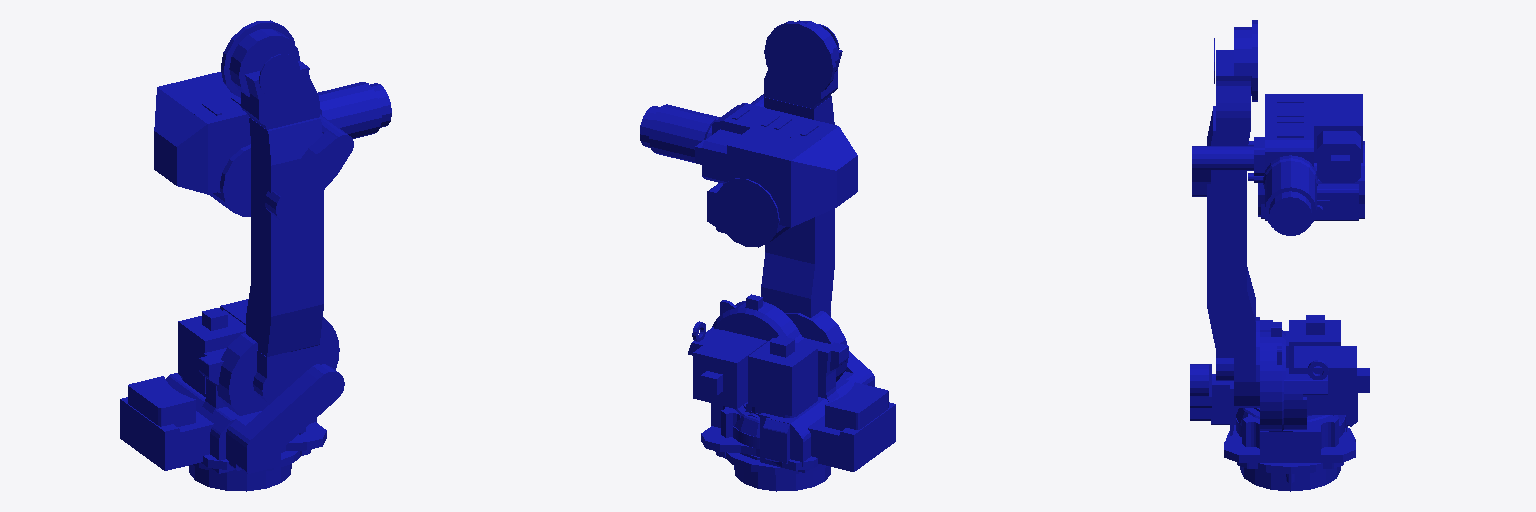
The robot description file, URDF, robot "motoman_hc10":
<?xml version="1.0" ?>
<!-- =================================================================================== -->
<!-- |    This document was autogenerated by xacro from hc10.xacro                     | -->
<!-- |    EDITING THIS FILE BY HAND IS NOT RECOMMENDED                                 | -->
<!-- =================================================================================== -->
<robot name="motoman_hc10">
  <!-- link list -->
  <link name="world"/>
  <link name="base_link">
    <visual>
      <geometry>
        <mesh filename="package://motoman_hc10_support/meshes/hc10/visual/base_link.dae"/>
      </geometry>
      <material name="">
        <color rgba="0.12941176470588237 0.14901960784313725 0.7490196078431373 1.0"/>
      </material>
    </visual>
    <collision>
      <geometry>
        <mesh filename="package://motoman_hc10_support/meshes/hc10/collision/base_link.stl"/>
      </geometry>
    </collision>
    <inertial>
      <origin rpy="0 0 0" xyz="0 0 0"/>
      <mass value="0.1"/>
      <inertia ixx="0.3" ixy="0.03" ixz="0.03" iyy="0.0" iyz="0.0" izz="0.0"/>
    </inertial>
  </link>
  <link name="link_1_s">
    <visual>
      <geometry>
        <mesh filename="package://motoman_hc10_support/meshes/hc10/visual/link_1_s.dae"/>
      </geometry>
      <material name="">
        <color rgba="0.12941176470588237 0.14901960784313725 0.7490196078431373 1.0"/>
      </material>
    </visual>
    <collision>
      <geometry>
        <mesh filename="package://motoman_hc10_support/meshes/hc10/collision/link_1_s.stl"/>
      </geometry>
    </collision>
    <inertial>
      <origin rpy="0 0 0" xyz="0 0 0"/>
      <mass value="0.1"/>
      <inertia ixx="0.3" ixy="0.03" ixz="0.03" iyy="0.0" iyz="0.0" izz="0.0"/>
    </inertial>
  </link>
  <link name="link_2_l">
    <visual>
      <geometry>
        <mesh filename="package://motoman_hc10_support/meshes/hc10/visual/link_2_l.dae"/>
      </geometry>
      <material name="">
        <color rgba="0.12941176470588237 0.14901960784313725 0.7490196078431373 1.0"/>
      </material>
    </visual>
    <collision>
      <geometry>
        <mesh filename="package://motoman_hc10_support/meshes/hc10/collision/link_2_l.stl"/>
      </geometry>
    </collision>
    <inertial>
      <origin rpy="0 0 0" xyz="0 0 0"/>
      <mass value="0.1"/>
      <inertia ixx="0.3" ixy="0.03" ixz="0.03" iyy="0.0" iyz="0.0" izz="0.0"/>
    </inertial>
  </link>
  <link name="link_3_u">
    <visual>
      <geometry>
        <mesh filename="package://motoman_hc10_support/meshes/hc10/visual/link_3_u.dae"/>
      </geometry>
      <material name="">
        <color rgba="0.12941176470588237 0.14901960784313725 0.7490196078431373 1.0"/>
      </material>
    </visual>
    <collision>
      <geometry>
        <mesh filename="package://motoman_hc10_support/meshes/hc10/collision/link_3_u.stl"/>
      </geometry>
    </collision>
    <inertial>
      <origin rpy="0 0 0" xyz="0 0 0"/>
      <mass value="0.1"/>
      <inertia ixx="0.3" ixy="0.03" ixz="0.03" iyy="0.0" iyz="0.0" izz="0.0"/>
    </inertial>
  </link>
  <link name="link_4_r">
    <visual>
      <geometry>
        <mesh filename="package://motoman_hc10_support/meshes/hc10/visual/link_4_r.dae"/>
      </geometry>
      <material name="">
        <color rgba="0.12941176470588237 0.14901960784313725 0.7490196078431373 1.0"/>
      </material>
    </visual>
    <collision>
      <geometry>
        <mesh filename="package://motoman_hc10_support/meshes/hc10/collision/link_4_r.stl"/>
      </geometry>
    </collision>
    <inertial>
      <origin rpy="0 0 0" xyz="0 0 0"/>
      <mass value="0.1"/>
      <inertia ixx="0.3" ixy="0.03" ixz="0.03" iyy="0.0" iyz="0.0" izz="0.0"/>
    </inertial>
  </link>
  <link name="link_5_b">
    <visual>
      <geometry>
        <mesh filename="package://motoman_hc10_support/meshes/hc10/visual/link_5_b.dae"/>
      </geometry>
      <material name="">
        <color rgba="0.12941176470588237 0.14901960784313725 0.7490196078431373 1.0"/>
      </material>
    </visual>
    <collision>
      <geometry>
        <mesh filename="package://motoman_hc10_support/meshes/hc10/collision/link_5_b.stl"/>
      </geometry>
    </collision>
    <inertial>
      <origin rpy="0 0 0" xyz="0 0 0"/>
      <mass value="0.1"/>
      <inertia ixx="0.3" ixy="0.03" ixz="0.03" iyy="0.0" iyz="0.0" izz="0.0"/>
    </inertial>
  </link>
  <link name="link_6_t">
    <visual>
      <geometry>
        <mesh filename="package://motoman_hc10_support/meshes/hc10/visual/link_6_t.dae"/>
      </geometry>
      <material name="">
        <color rgba="0.12941176470588237 0.14901960784313725 0.7490196078431373 1.0"/>
      </material>
    </visual>
    <collision>
      <geometry>
        <mesh filename="package://motoman_hc10_support/meshes/hc10/collision/link_6_t.stl"/>
      </geometry>
    </collision>
    <inertial>
      <origin rpy="0 0 0" xyz="0 0 0"/>
      <mass value="0.1"/>
      <inertia ixx="0.3" ixy="0.03" ixz="0.03" iyy="0.0" iyz="0.0" izz="0.0"/>
    </inertial>
  </link>
  <link name="tool0"/>
  <link name="camera_link"/>
  <link name="camera_depth_optical_frame"/>
  <!-- end of link list -->
  <!-- joint list -->
  <joint name="world_prefix" type="fixed">
    <parent link="world"/>
    <child link="base_link"/>
  </joint>
  <joint name="joint_1_s" type="revolute">
    <parent link="base_link"/>
    <child link="link_1_s"/>
    <origin rpy="0 0 0" xyz="0 0 0.275"/>
    <axis xyz="0 0 1"/>
    <limit effort="368.48" lower="-3.141592653589793" upper="3.141592653589793" velocity="2.2689280275926285"/>
    <dynamics damping="1"/>
  </joint>
  <joint name="joint_2_l" type="revolute">
    <parent link="link_1_s"/>
    <child link="link_2_l"/>
    <origin rpy="0 0 0" xyz="0 0 0"/>
    <axis xyz="0 1 0"/>
    <limit effort="368.48" lower="-3.141592653589793" upper="3.141592653589793" velocity="2.2689280275926285"/>
    <dynamics damping="1"/>
  </joint>
  <joint name="joint_3_u" type="revolute">
    <parent link="link_2_l"/>
    <child link="link_3_u"/>
    <origin rpy="0 0 0" xyz="0 0 0.700"/>
    <axis xyz="0 -1 0"/>
    <limit effort="141.12" lower="-0.08726646259971647" upper="6.19591884457987" velocity="3.141592653589793"/>
    <dynamics damping="1"/>
  </joint>
  <joint name="joint_4_r" type="revolute">
    <parent link="link_3_u"/>
    <child link="link_4_r"/>
    <origin rpy="0 0 0" xyz="0 0 -0.500"/>
    <axis xyz="0 0 1"/>
    <limit effort="39.20" lower="-3.141592653589793" upper="3.141592653589793" velocity="3.141592653589793"/>
    <dynamics damping="1"/>
  </joint>
  <joint name="joint_5_b" type="revolute">
    <parent link="link_4_r"/>
    <child link="link_5_b"/>
    <origin rpy="0 0 0" xyz="0 0.162 0"/>
    <axis xyz="0 -1 0"/>
    <limit effort="31.36" lower="-3.141592653589793" upper="3.141592653589793" velocity="4.363323129985824"/>
    <dynamics damping="1"/>
  </joint>
  <joint name="joint_6_t" type="revolute">
    <parent link="link_5_b"/>
    <child link="link_6_t"/>
    <origin rpy="0 0 0" xyz="0 0 0"/>
    <axis xyz="0 0 1"/>
    <limit effort="31.36" lower="-3.141592653589793" upper="3.141592653589793" velocity="4.363323129985824"/>
    <dynamics damping="1"/>
  </joint>
  <joint name="joint_6_t-tool0" type="fixed">
    <origin rpy="3.141592653589793 0 0" xyz="0 0 -0.130"/>
    <parent link="link_6_t"/>
    <child link="tool0"/>
  </joint>
  <joint name="camera_joint" type="fixed">
    <parent link="tool0"/>
    <child link="camera_link"/>
    <origin rpy="0 0 0" xyz="0 0 0.1"/>
  </joint>
  <joint name="camera_optical_joint" type="fixed">
    <parent link="camera_link"/>
    <child link="camera_depth_optical_frame"/>
    <origin rpy="0 0 0" xyz="0 0 0.1"/>
  </joint>
  <!-- end of joint list -->
  <gazebo reference="camera_link">
    <sensor name="kinect_camera" type="depth">
      <update_rate>20</update_rate>
      <camera>
        <horizontal_fov>1.047198</horizontal_fov>
        <image>
          <width>640</width>
          <height>480</height>
          <format>B8G8R8</format>
        </image>
        <clip>
          <near>0.05</near>
          <far>3</far>
        </clip>
      </camera>
      <plugin filename="libgazebo_ros_openni_kinect.so" name="kinect_controller">
        <baseline>0.1</baseline>
        <alwaysOn>true</alwaysOn>
        <updateRate>10</updateRate>
        <cameraName>camera_ir</cameraName>
        <imageTopicName>/camera/color/image_raw</imageTopicName>
        <cameraInfoTopicName>/camera/color/camera_info</cameraInfoTopicName>
        <depthImageTopicName>/camera/depth/image_raw</depthImageTopicName>
        <depthImageCameraInfoTopicName>/camera/depth/camera_info</depthImageCameraInfoTopicName>
        <pointCloudTopicName>/camera/depth/points</pointCloudTopicName>
        <frameName>camera_depth_optical_frame</frameName>
        <distortion_k1>0.0</distortion_k1>
        <distortion_k2>0.0</distortion_k2>
        <distortion_k3>0.0</distortion_k3>
        <distortion_t1>0.0</distortion_t1>
        <distortion_t2>0.0</distortion_t2>
        <pointCloudCutoff>0.16</pointCloudCutoff>
        <pointCloudCutoffMax>10.0</pointCloudCutoffMax>
      </plugin>
    </sensor>
  </gazebo>
  <!-- ROS base_link to Robot Manufacturer World Coordinates transform -->
  <link name="base"/>
  <joint name="base_link-base" type="fixed">
    <origin rpy="0 0 0" xyz="0 0 0.275"/>
    <parent link="base_link"/>
    <child link="base"/>
  </joint>
  <gazebo>
    <plugin filename="libgazebo_ros_control.so" name="gazebo_ros_control">
      <robotNamespace>/</robotNamespace>
      <legacyModeNS>true</legacyModeNS>
    </plugin>
  </gazebo>
  <!-- Transmissions: PositionJointInterface simple -->
  <transmission name="trans_joint_1_s">
    <type>transmission_interface/SimpleTransmission</type>
    <joint name="joint_1_s">
      <hardwareInterface>hardware_interface/EffortJointInterface</hardwareInterface>
    </joint>
    <actuator name="motor_1_s">
      <hardwareInterface>hardware_interface/EffortJointInterface</hardwareInterface>
      <mechanicalReduction>1</mechanicalReduction>
    </actuator>
  </transmission>
  <transmission name="trans_joint_2_l">
    <type>transmission_interface/SimpleTransmission</type>
    <joint name="joint_2_l">
      <hardwareInterface>hardware_interface/EffortJointInterface</hardwareInterface>
    </joint>
    <actuator name="motor_2_l">
      <hardwareInterface>hardware_interface/EffortJointInterface</hardwareInterface>
      <mechanicalReduction>1</mechanicalReduction>
    </actuator>
  </transmission>
  <transmission name="trans_joint_3_u">
    <type>transmission_interface/SimpleTransmission</type>
    <joint name="joint_3_u">
      <hardwareInterface>hardware_interface/EffortJointInterface</hardwareInterface>
    </joint>
    <actuator name="motor_3_u">
      <hardwareInterface>hardware_interface/EffortJointInterface</hardwareInterface>
      <mechanicalReduction>1</mechanicalReduction>
    </actuator>
  </transmission>
  <transmission name="trans_joint_4_r">
    <type>transmission_interface/SimpleTransmission</type>
    <joint name="joint_4_r">
      <hardwareInterface>hardware_interface/EffortJointInterface</hardwareInterface>
    </joint>
    <actuator name="motor_4_r">
      <hardwareInterface>hardware_interface/EffortJointInterface</hardwareInterface>
      <mechanicalReduction>1</mechanicalReduction>
    </actuator>
  </transmission>
  <transmission name="trans_joint_5_b">
    <type>transmission_interface/SimpleTransmission</type>
    <joint name="joint_5_b">
      <hardwareInterface>hardware_interface/EffortJointInterface</hardwareInterface>
    </joint>
    <actuator name="motor_5_b">
      <hardwareInterface>hardware_interface/EffortJointInterface</hardwareInterface>
      <mechanicalReduction>1</mechanicalReduction>
    </actuator>
  </transmission>
  <transmission name="trans_joint_6_t">
    <type>transmission_interface/SimpleTransmission</type>
    <joint name="joint_6_t">
      <hardwareInterface>hardware_interface/EffortJointInterface</hardwareInterface>
    </joint>
    <actuator name="motor_6_t">
      <hardwareInterface>hardware_interface/EffortJointInterface</hardwareInterface>
      <mechanicalReduction>1</mechanicalReduction>
    </actuator>
  </transmission>
</robot>

--- Facts derived from the render (not from the file) ---
Views: 3 orthographic renders of the robot side by side, from view 1: azimuth 30°, elevation 25°; view 2: azimuth 150°, elevation 25°; view 3: azimuth 270°, elevation 25°.
Model motoman_hc10 with 12 links and 11 joints (6 revolute, 5 fixed), rooted at world, posed all joints at 0.
Links seen in each view (by area): view 1: link_2_l, link_3_u, link_1_s, base_link; view 2: link_3_u, link_1_s, link_2_l, base_link; view 3: link_3_u, link_1_s, link_2_l, base_link.
Link boxes in pixels (<box>): link_2_l: <box>216,20,323,415</box>; link_3_u: <box>154,72,391,222</box>; link_1_s: <box>166,299,344,491</box>; base_link: <box>120,376,326,470</box>; link_3_u: <box>640,94,857,247</box>; link_1_s: <box>688,294,874,491</box>; link_2_l: <box>761,20,847,381</box>; base_link: <box>701,382,895,471</box>; link_3_u: <box>1192,94,1364,235</box>; link_1_s: <box>1190,315,1369,491</box>; link_2_l: <box>1207,20,1259,407</box>; base_link: <box>1224,331,1355,462</box>.
Size in the robot's own frame: 0.9205 by 0.6225 by 1.7 metres.
4 mesh visuals loaded from 7 distinct referenced files (4 Collada DAE); not drawn: 3 (reference not matched to a file when rendering).
